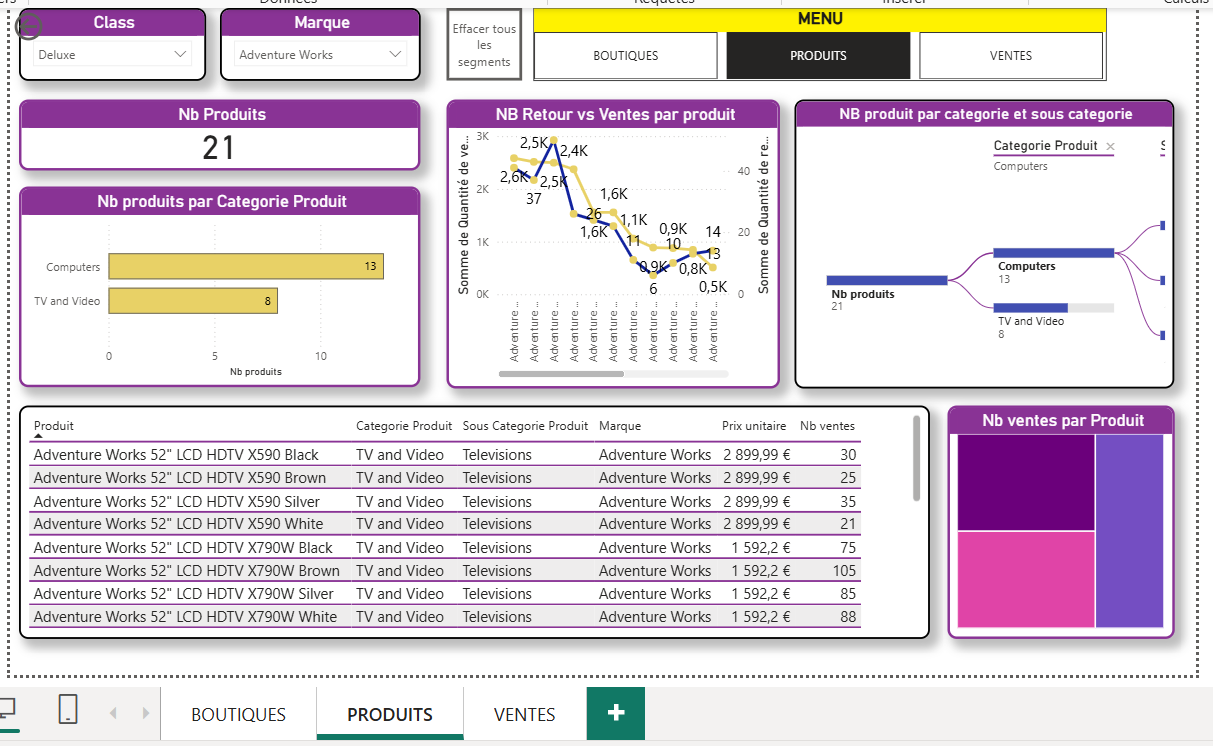

What the dashboard file says about the page in this screenshot:
{"tool":"powerbi","page":{"name":"PRODUITS","canvas":[1280,720],"ordinal":1},"visuals":[{"type":"slicer","title":"Class","fields":{"Values":["Produits.Class"]},"box":[10,0,201.7,78.3],"z":0},{"type":"slicer","title":"Marque","fields":{"Values":["Produits.Marque"]},"box":[226.7,0,216.7,78.3],"z":1000},{"type":"card","title":"Nb Produits","fields":{"Values":["Produits.Nb produits"]},"box":[10,98.3,433.3,76.7],"z":2000},{"type":"barChart","fields":{"Category":["Categorie Produits.Categorie Produit"],"Y":["Produits.Nb produits"]},"box":[10,193.3,433.3,216.7],"z":3000},{"type":"tableEx","fields":{"Values":["Produits.Produit","Categorie Produits.Categorie Produit","Sous Categories Produits.Sous Categorie Produit","Produits.Marque","Produits.Prix unitaire","Sales.Nb ventes"]},"box":[10,428.3,983.3,251.7],"z":4000},{"type":"actionButton","box":[0,0,100,40],"z":5000},{"type":"lineChart","title":"NB Retour vs Ventes par produit","fields":{"Category":["Produits.Produit"],"Y":["Sum(Sales.Quantité de vente)"],"Y2":["Sum(Sales.Quantité de retour)"]},"box":[471.7,98.3,360,311.7],"z":6000},{"type":"decompositionTreeVisual","title":"NB produit par categorie et sous categorie","fields":{"Analyze":["Produits.Nb produits"],"ExplainBy":["Categorie Produits.Categorie Produit","Sous Categories Produits.Sous Categorie Produit"]},"box":[846.7,98.3,410,311.7],"z":7000},{"type":"treemap","fields":{"Group":["Produits.Produit"],"Values":["Sales.Nb ventes"]},"box":[1011.7,428.3,245,251.7],"z":8000},{"type":"actionButton","box":[471.7,0,81.7,78.3],"z":9000},{"type":"pageNavigator","title":"MENU","box":[565,0,618.3,78.3],"z":9001}]}

Visuals, with their boxes in screenshot pixels (x1, y1, x2, y2):
"Class" slicer: left=9, top=3, right=198, bottom=76
"Marque" slicer: left=212, top=3, right=414, bottom=76
"Nb Produits" card: left=9, top=95, right=414, bottom=167
barChart - Categorie Produits.Categorie Produit x Produits.Nb produits: left=9, top=184, right=414, bottom=386
tableEx - Produits.Produit x Categorie Produits.Categorie Produit: left=9, top=403, right=928, bottom=639
actionButton: left=0, top=3, right=93, bottom=41
"NB Retour vs Ventes par produit" lineChart: left=441, top=95, right=777, bottom=386
"NB produit par categorie et sous categorie" decompositionTreeVisual: left=791, top=95, right=1174, bottom=386
treemap - Produits.Produit x Sales.Nb ventes: left=945, top=403, right=1174, bottom=639
actionButton: left=441, top=3, right=517, bottom=76
"MENU" pageNavigator: left=528, top=3, right=1106, bottom=76
